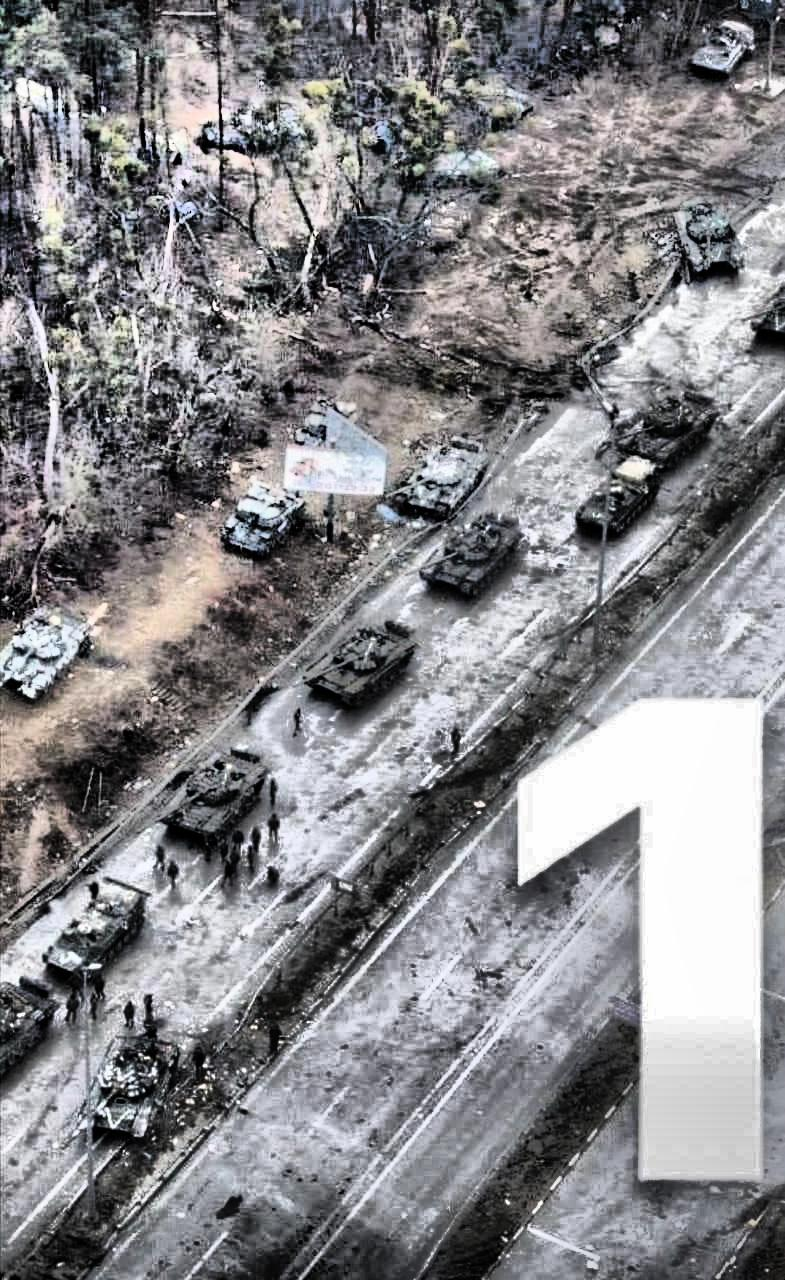military-vehicle: (56, 1036, 176, 1152), (140, 748, 270, 848), (290, 618, 416, 706), (44, 876, 144, 984), (406, 512, 526, 598), (0, 604, 98, 702), (388, 438, 488, 518), (220, 480, 310, 560), (574, 458, 658, 542), (610, 398, 710, 462), (676, 204, 744, 276), (686, 20, 758, 84)
